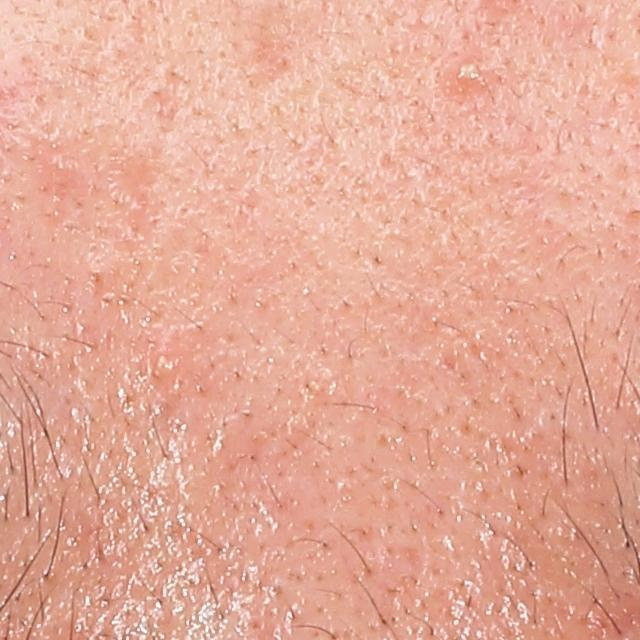pustule: (454, 57, 489, 89)
